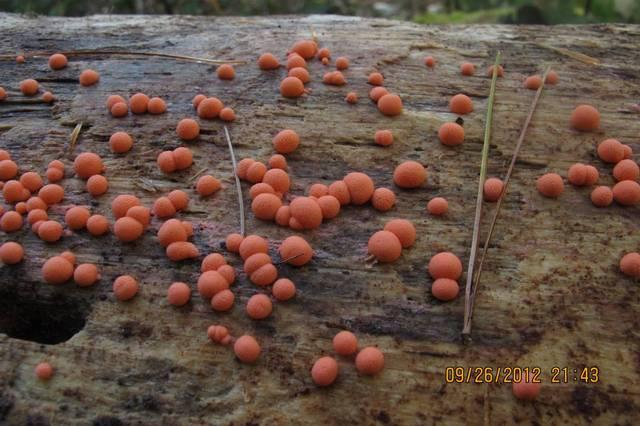Non-edible Mushroom: (1, 32, 636, 387), (366, 229, 402, 262), (427, 250, 462, 280), (354, 345, 384, 375), (309, 355, 338, 386), (535, 172, 564, 198)
